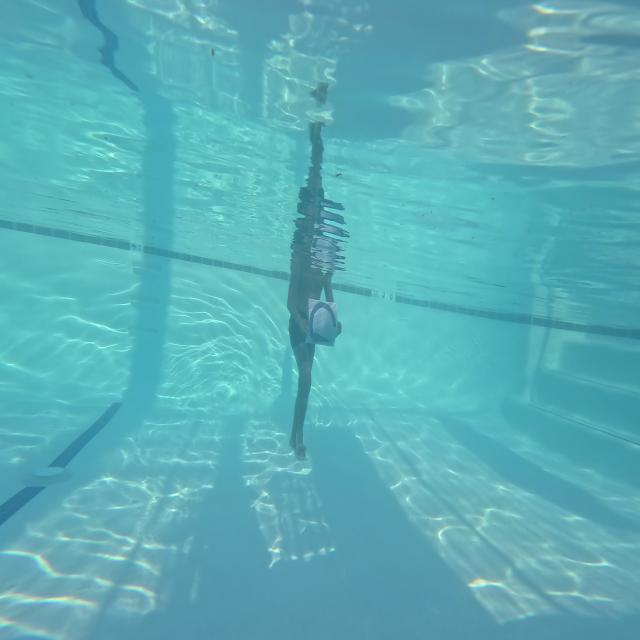blue_side: (303, 295, 340, 355)
